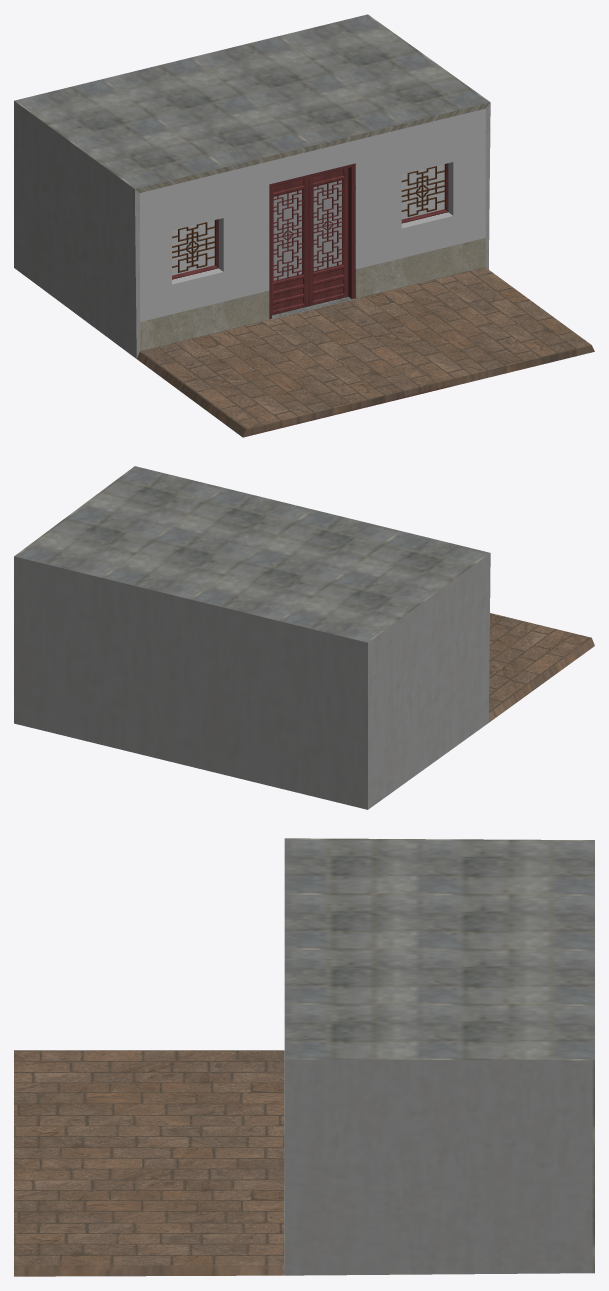
File: Room.fbx
3 renders of one model, top to bottom at view 1: azimuth 30°, elevation 25°; view 2: azimuth 150°, elevation 25°; view 3: azimuth 270°, elevation 25°, orthographic. The views are drawn at different scales.
Visible parts, largest first — view 1: House, DoorRight, DoorLeft; view 2: House; view 3: House.
Boxes of the visible parts, x1,y1,x2,y2 form: House: (14,14,594,437); DoorRight: (308,168,348,306); DoorLeft: (272,178,308,315); House: (14,466,594,809); House: (14,838,594,1276).
Size of the model in its own units: 929 by 427 by 1031.
